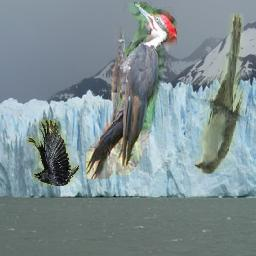Crow: (27, 120, 79, 187)
Cuckoo: (196, 14, 245, 175)
Woodpecker: (87, 3, 178, 180)
